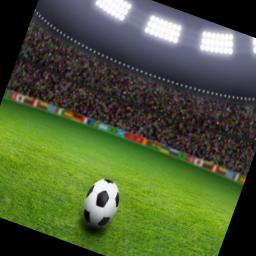football: (74, 170, 128, 237)
